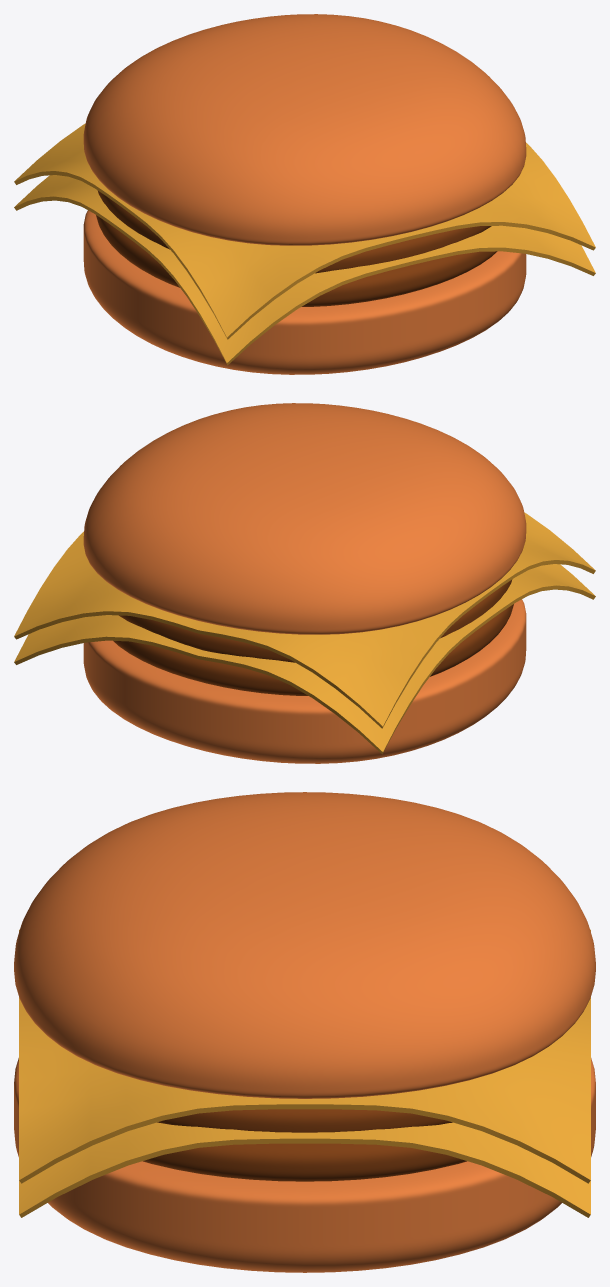
The model's file is hamburger.glb.
The picture shows the model from 3 angles, top to bottom: view 1: azimuth 30°, elevation 25°; view 2: azimuth 150°, elevation 25°; view 3: azimuth 270°, elevation 25°; orthographic projection. The views are drawn at different scales.
Parts seen in each view (by area): view 1: Cube.002, Cube, Plane.001, Plane, Cube.001, Cube.003; view 2: Cube.002, Cube, Plane.001, Plane, Cube.001, Cube.003; view 3: Cube.002, Cube, Plane.001, Plane, Cube.001, Cube.003.
Boxes of the visible parts, box(x1,y1,x2,y2) form: Cube.002: box(83, 14, 526, 245); Cube: box(83, 210, 526, 374); Plane.001: box(14, 123, 595, 339); Plane: box(14, 175, 595, 365); Cube.001: box(96, 215, 497, 306); Cube.003: box(97, 190, 491, 273); Cube.002: box(83, 403, 526, 634); Cube: box(83, 599, 526, 763); Plane.001: box(14, 512, 595, 728); Plane: box(14, 564, 595, 754); Cube.001: box(113, 604, 513, 695); Cube.003: box(119, 579, 512, 662); Cube.002: box(14, 792, 595, 1098); Cube: box(14, 1058, 595, 1272); Plane.001: box(19, 929, 590, 1183); Plane: box(19, 1122, 590, 1217); Cube.001: box(143, 1143, 466, 1181); Cube.003: box(157, 1109, 452, 1132).
Bounding box in the file's own units: 1.83 × 1.15 × 1.83.
